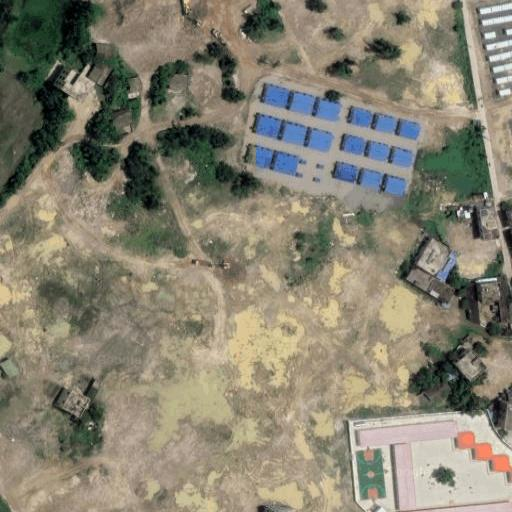building: (358, 421, 457, 447), (393, 443, 418, 510), (415, 237, 452, 279), (60, 62, 95, 102), (399, 500, 512, 512), (456, 351, 487, 382), (60, 387, 91, 417), (407, 266, 437, 293), (263, 84, 292, 110), (247, 145, 274, 170), (256, 114, 282, 139), (429, 279, 456, 303), (87, 61, 112, 86), (478, 208, 498, 239), (272, 152, 298, 175), (437, 254, 457, 283), (289, 92, 313, 116), (316, 100, 342, 122), (308, 130, 332, 153), (348, 107, 373, 129), (113, 108, 133, 135), (423, 378, 446, 401), (282, 123, 305, 145), (384, 177, 408, 197), (336, 162, 358, 182), (360, 169, 381, 189), (0, 357, 19, 378), (375, 115, 395, 134), (368, 143, 389, 161), (498, 204, 512, 230), (344, 135, 363, 154), (393, 149, 412, 168), (400, 122, 420, 140), (167, 74, 188, 91), (481, 283, 499, 302), (500, 280, 508, 322), (457, 432, 476, 449), (492, 453, 509, 472), (475, 442, 492, 460), (128, 75, 142, 95), (503, 402, 512, 433), (97, 43, 112, 58), (445, 369, 456, 381), (441, 300, 449, 308), (477, 278, 497, 281), (492, 305, 499, 313), (509, 465, 512, 483), (313, 177, 321, 183), (299, 159, 306, 164), (508, 392, 512, 400), (317, 164, 323, 169), (297, 173, 303, 178)
